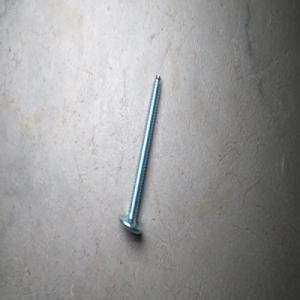Bolt: (118, 73, 161, 235)
